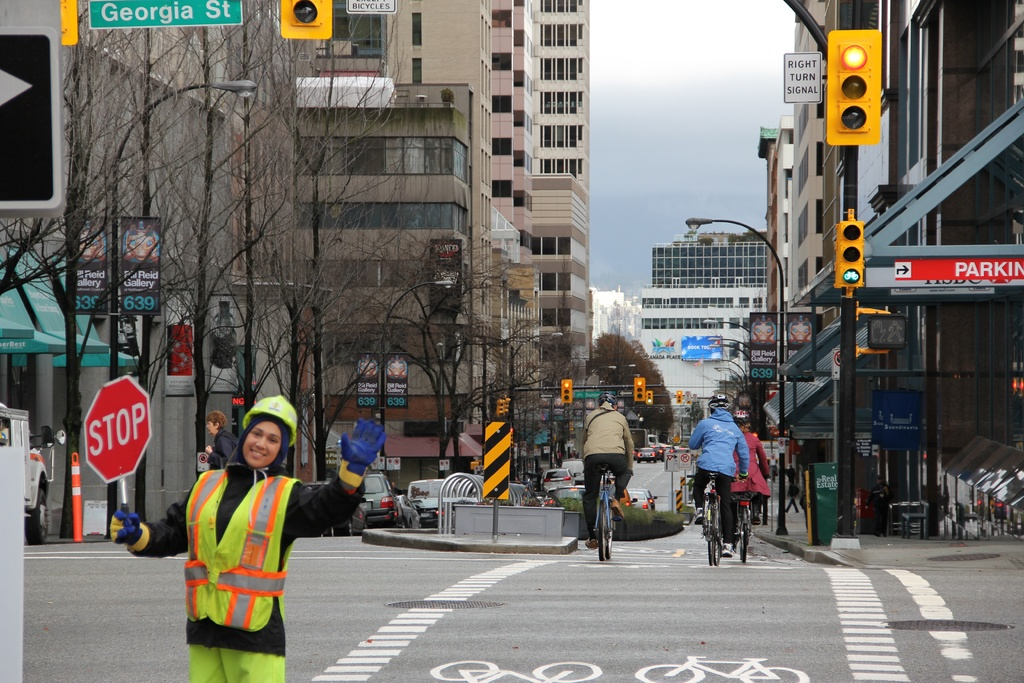Bike: (577, 460, 631, 560), (696, 465, 737, 565)
